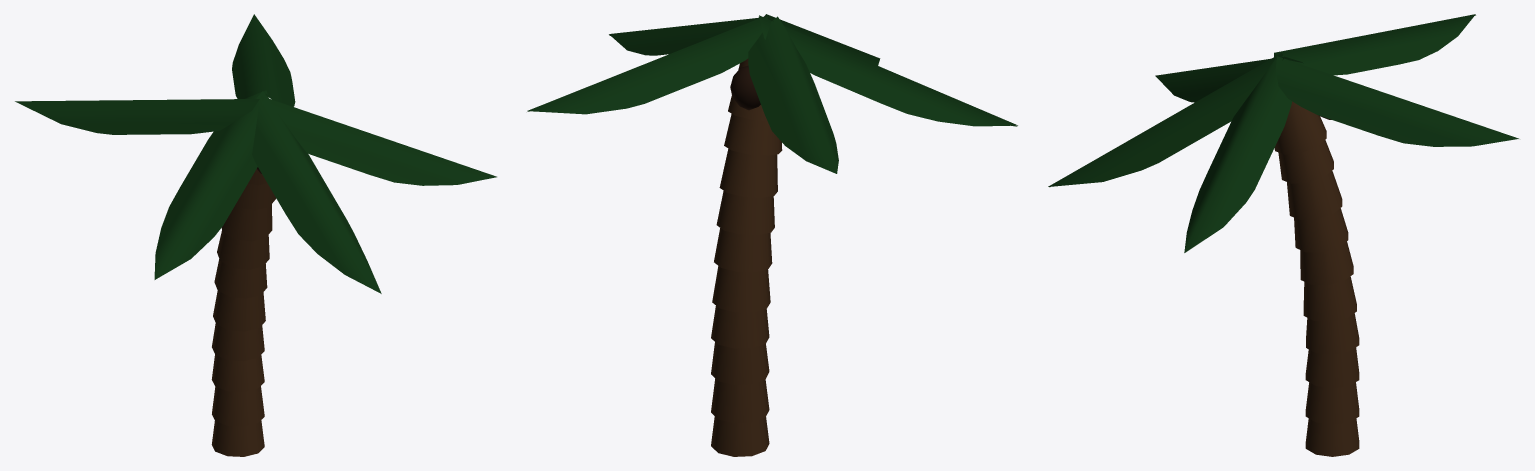
The model's file is Palm.FBX.
3 views of the same model, side by side, from view 1: azimuth 30°, elevation 25°; view 2: azimuth 150°, elevation 25°; view 3: azimuth 270°, elevation 25° (orthographic). The views are drawn at different scales.
Parts seen in each view (by area): view 1: Plane001, Cylinder001; view 2: Plane001, Cylinder001, Sphere002; view 3: Plane001, Cylinder001.
Boxes of the visible parts, <box> form: Plane001: <box>15,14,496,293</box>; Cylinder001: <box>211,169,276,456</box>; Plane001: <box>527,14,1017,173</box>; Cylinder001: <box>711,58,782,456</box>; Sphere002: <box>730,65,760,110</box>; Plane001: <box>1048,14,1518,252</box>; Cylinder001: <box>1274,101,1359,456</box>.
Bounding box in the file's own units: 211 × 211 × 230.
